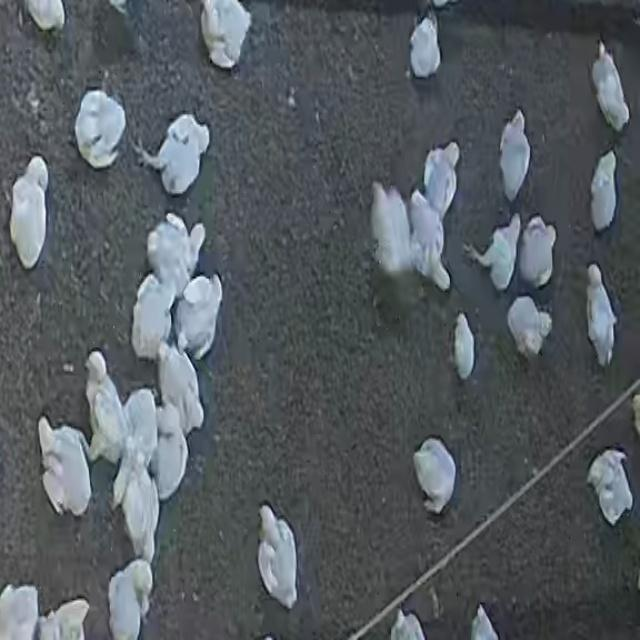chicken: (137, 112, 210, 196), (38, 418, 92, 517), (116, 444, 160, 559), (84, 352, 128, 462), (145, 214, 200, 298), (9, 156, 50, 268), (157, 342, 204, 438), (256, 504, 299, 608), (370, 183, 416, 280), (409, 190, 452, 292), (591, 41, 635, 139), (466, 214, 522, 291), (74, 89, 127, 168), (174, 274, 223, 358), (150, 402, 190, 503), (131, 273, 176, 360), (198, 0, 250, 70), (108, 560, 154, 638), (587, 448, 632, 525), (584, 264, 618, 364), (498, 105, 531, 202), (413, 439, 456, 513), (421, 142, 460, 218), (507, 296, 554, 358), (518, 218, 557, 289), (589, 147, 619, 234), (409, 15, 443, 80), (453, 312, 477, 380), (24, 0, 66, 31)
